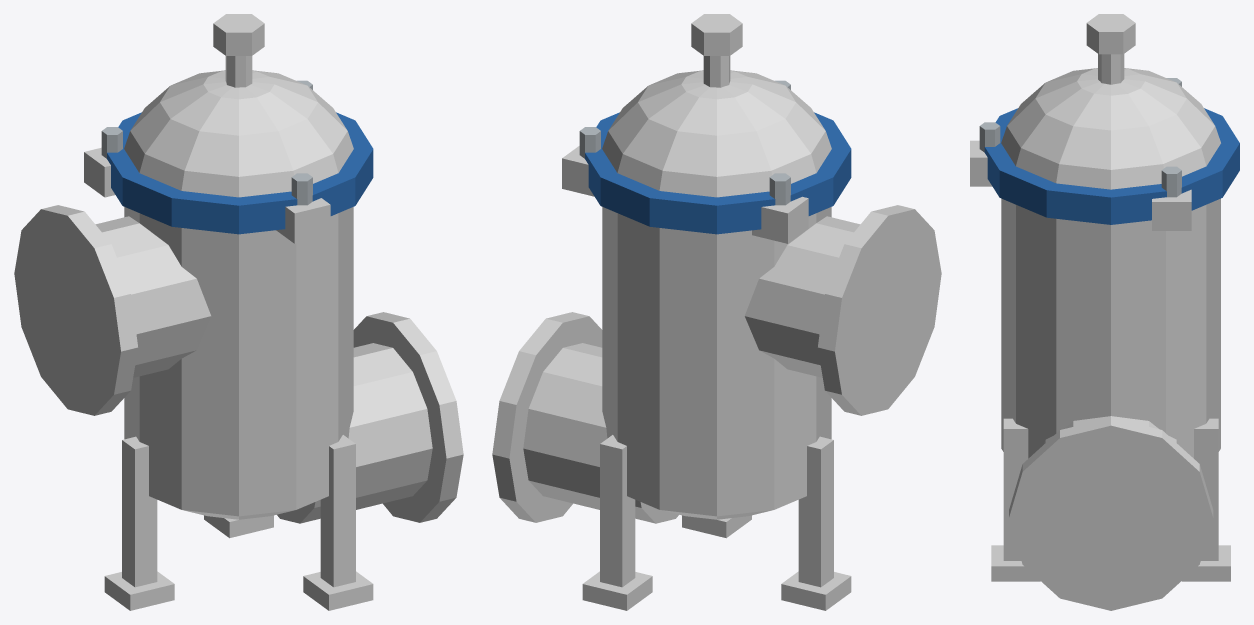
The model's file is filter.glb.
3 views of the same model, side by side, from view 1: azimuth 30°, elevation 25°; view 2: azimuth 150°, elevation 25°; view 3: azimuth 270°, elevation 25° (orthographic). The views are drawn at different scales.
Parts seen in each view (by area): view 1: housing, lid, in.flange, out.stub, clamp.ring, in.stub, out.flange, leg.0, leg.1, vent.hex, leg.1.pad, leg.0.pad (+5 smaller); view 2: housing, lid, in.flange, out.stub, clamp.ring, in.stub, out.flange, leg.0, leg.2, vent.hex, clamp.lug.2, leg.2.pad (+5 smaller); view 3: housing, out.flange, lid, clamp.ring, leg.1, leg.2, vent.hex, clamp.lug.1, leg.1.pad, leg.2.pad, vent.stem, clamp.lug.0 (+3 smaller).
Boxes of the visible parts, x1,y1,x2,y2 form: housing: [124, 207, 353, 519]; lid: [124, 70, 353, 197]; in.flange: [14, 205, 138, 415]; out.stub: [277, 343, 432, 523]; clamp.ring: [107, 112, 373, 234]; in.stub: [95, 216, 211, 377]; out.flange: [353, 312, 463, 522]; leg.0: [122, 436, 157, 587]; leg.1: [320, 435, 355, 587]; vent.hex: [213, 14, 264, 55]; leg.1.pad: [303, 571, 373, 610]; leg.0.pad: [104, 571, 174, 610]; housing: [602, 207, 831, 519]; lid: [602, 70, 831, 197]; in.flange: [817, 205, 941, 415]; out.stub: [523, 343, 678, 523]; clamp.ring: [585, 112, 851, 234]; in.stub: [744, 216, 860, 377]; out.flange: [492, 312, 602, 522]; leg.0: [798, 436, 833, 587]; leg.2: [600, 435, 635, 587]; vent.hex: [691, 14, 742, 55]; clamp.lug.2: [752, 196, 808, 243]; leg.2.pad: [582, 571, 652, 610]; housing: [1001, 198, 1220, 458]; out.flange: [1009, 417, 1213, 610]; lid: [1001, 68, 1220, 189]; clamp.ring: [984, 108, 1239, 224]; leg.1: [1003, 418, 1028, 560]; leg.2: [1194, 418, 1218, 560]; vent.hex: [1086, 14, 1135, 54]; clamp.lug.1: [1152, 189, 1191, 230]; leg.1.pad: [991, 545, 1040, 581]; leg.2.pad: [1181, 545, 1230, 581]; vent.stem: [1098, 54, 1124, 84]; clamp.lug.0: [970, 140, 992, 186].
Bounding box in the file's own units: 1 × 1.53 × 0.7125.
